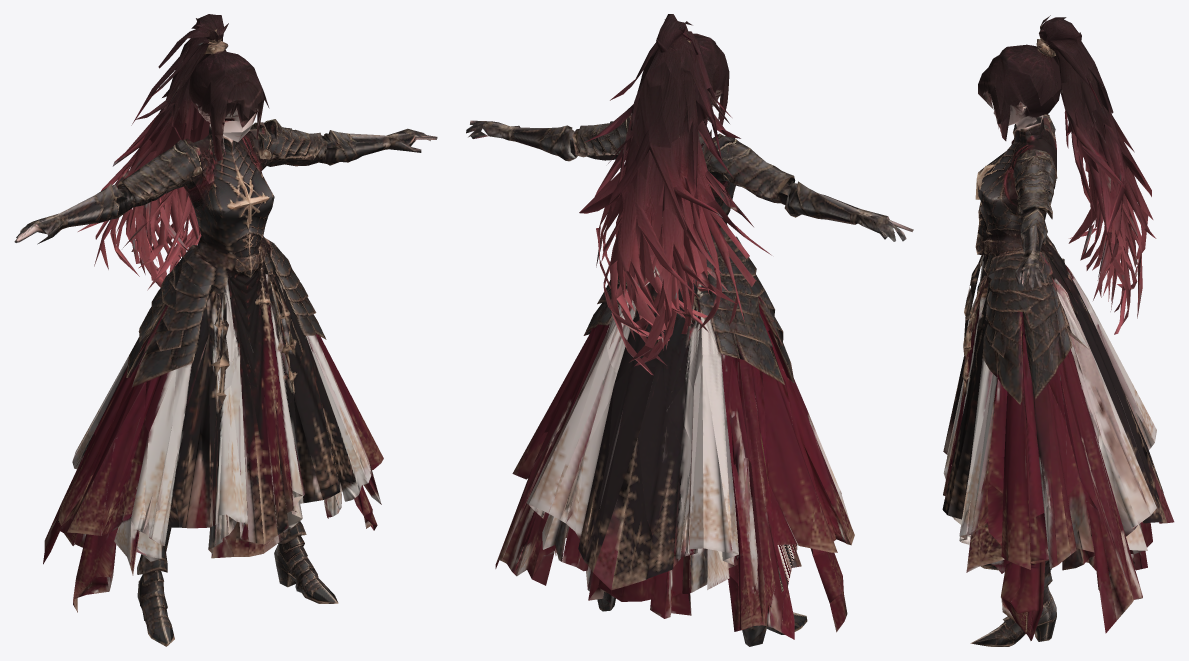
File: Inquisitor.fbx
3 views of the same model, side by side, from view 1: azimuth 30°, elevation 25°; view 2: azimuth 150°, elevation 25°; view 3: azimuth 270°, elevation 25° (orthographic). The views are drawn at different scales.
Parts seen in each view (by area): view 1: Mesh_0; view 2: Mesh_0; view 3: Mesh_0.
Boxes of the visible parts, left/top/right/bottom form: Mesh_0: left=14, top=14, right=437, bottom=646; Mesh_0: left=466, top=14, right=913, bottom=646; Mesh_0: left=942, top=15, right=1174, bottom=646.
Bounding box in the file's own units: 144 × 189 × 67.91.
1 material, 1 textured.
